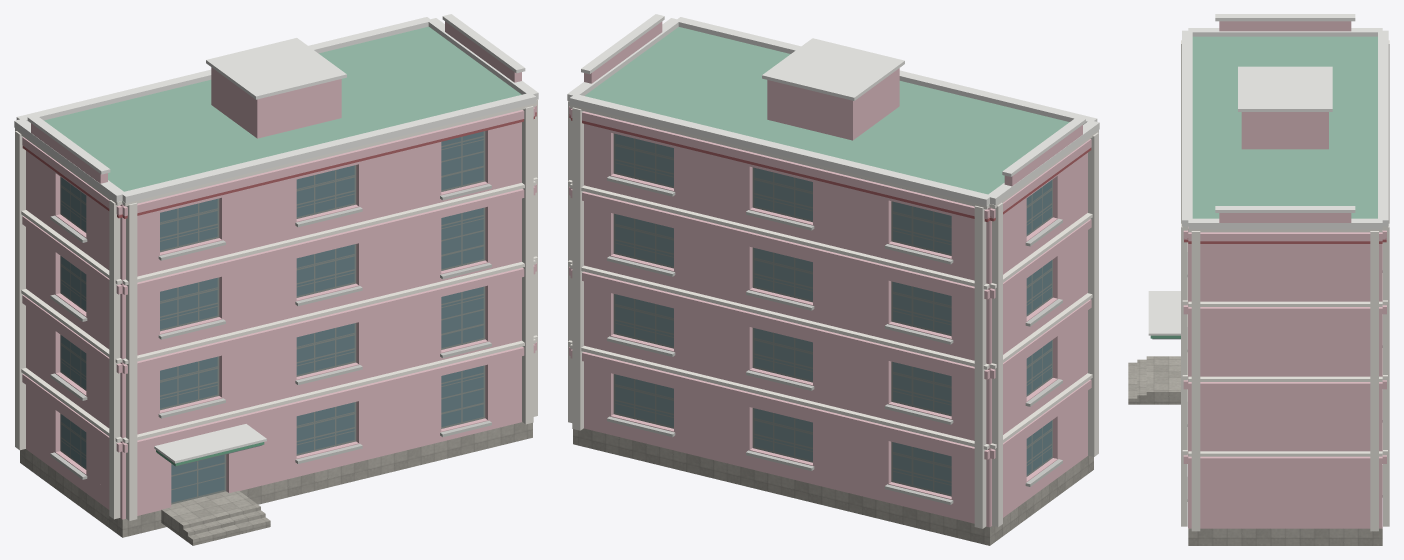
3 views of the same model, side by side, from view 1: azimuth 30°, elevation 25°; view 2: azimuth 150°, elevation 25°; view 3: azimuth 270°, elevation 25° (orthographic). The views are drawn at different scales.
Parts seen in each view (by area): view 1: east-wing__rose, east-wing__glass, east-wing__roof, east-wing__band, east-wing__cap, east-wing__frame, east-wing__stone, east-wing__sill, east-wing__stair-west, east-wing__threshold-west, east-wing__terracotta; view 2: east-wing__rose, east-wing__roof, east-wing__band, east-wing__sideglass, east-wing__cap, east-wing__frame, east-wing__stone, east-wing__sill, east-wing__glass, east-wing__terracotta; view 3: east-wing__rose, east-wing__roof, east-wing__cap, east-wing__band, east-wing__stone, east-wing__stair-west, east-wing__threshold-west, east-wing__terracotta.
Boxes of the visible parts, x1=… form: east-wing__rose: x1=22, y1=21, x2=536, y2=519; east-wing__glass: x1=61, y1=131, x2=483, y2=502; east-wing__roof: x1=44, y1=26, x2=521, y2=202; east-wing__band: x1=15, y1=99, x2=537, y2=520; east-wing__cap: x1=14, y1=14, x2=538, y2=463; east-wing__frame: x1=60, y1=131, x2=485, y2=504; east-wing__stone: x1=20, y1=422, x2=532, y2=537; east-wing__sill: x1=50, y1=184, x2=491, y2=479; east-wing__stair-west: x1=178, y1=503, x2=270, y2=545; east-wing__threshold-west: x1=161, y1=491, x2=255, y2=534; east-wing__terracotta: x1=22, y1=112, x2=536, y2=218; east-wing__rose: x1=569, y1=21, x2=1091, y2=527; east-wing__roof: x1=585, y1=27, x2=1069, y2=205; east-wing__band: x1=568, y1=101, x2=1098, y2=528; east-wing__sideglass: x1=615, y1=134, x2=951, y2=494; east-wing__cap: x1=567, y1=14, x2=1099, y2=206; east-wing__frame: x1=613, y1=133, x2=1052, y2=496; east-wing__stone: x1=573, y1=428, x2=1093, y2=545; east-wing__sill: x1=607, y1=176, x2=1062, y2=504; east-wing__glass: x1=1026, y1=180, x2=1051, y2=474; east-wing__terracotta: x1=569, y1=114, x2=1091, y2=221; east-wing__rose: x1=1183, y1=21, x2=1386, y2=528; east-wing__roof: x1=1192, y1=36, x2=1377, y2=218; east-wing__cap: x1=1148, y1=14, x2=1388, y2=335; east-wing__band: x1=1181, y1=40, x2=1389, y2=531; east-wing__stone: x1=1188, y1=528, x2=1382, y2=545; east-wing__stair-west: x1=1128, y1=356, x2=1155, y2=404; east-wing__threshold-west: x1=1156, y1=356, x2=1180, y2=404; east-wing__terracotta: x1=1184, y1=238, x2=1386, y2=243.
Size of the model in its own units: 19.1 by 16.5 by 10.77.
13 materials, 1 textured.
